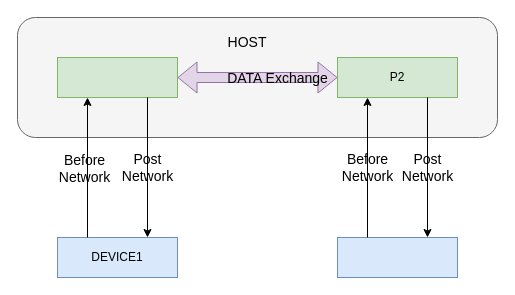
Some shapes in this 515 by 295 pixel diagram are drawn without their labels. The shapes that lost their labels are listed below. From the top down, each one's centre as x and y in pixels, then its label:
At point 117,77: "P1".
At point 397,257: "DEVICE2".
